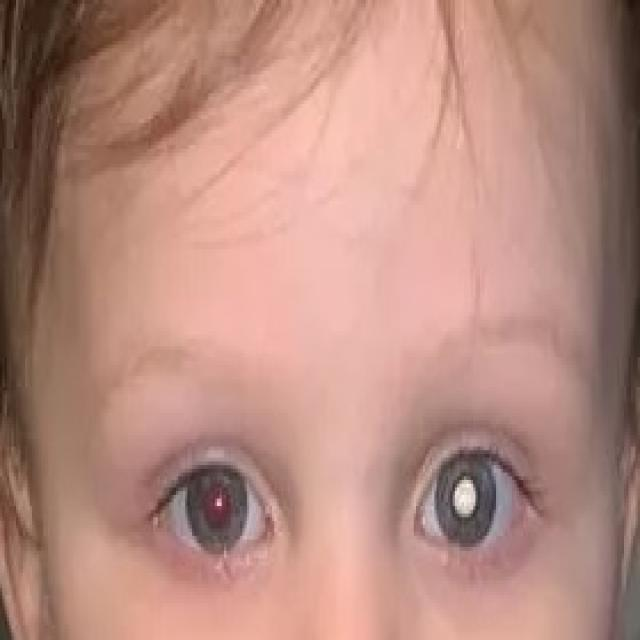reflexo-alterado: (113, 397, 292, 583), (401, 400, 544, 558)
